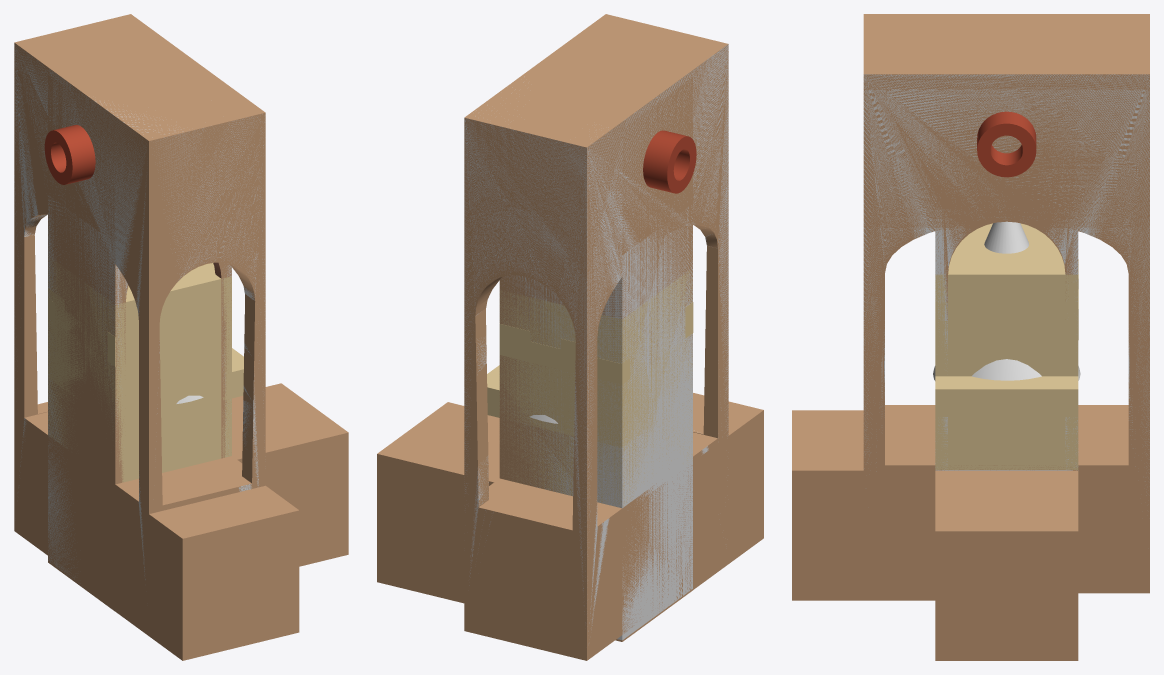
The model's file is rand (hek).fbx.
The picture shows the model from 3 angles, left to right: view 1: azimuth 30°, elevation 25°; view 2: azimuth 150°, elevation 25°; view 3: azimuth 270°, elevation 25°; orthographic projection. The views are drawn at different scales.
Parts seen in each view (by area): view 1: brug_1, Cube_1_2, Cube_5, zij_rand_af, zij_rand, sand, Cube_1, Cube, Cube_2, Cube_1_3, rand; view 2: brug_1, Cube_1_2, Cube_2, Cube_5, zij_rand_af, Cube_1_3, zij_rand, hoek, Cube_1; view 3: brug_1, Cube_1_2, Cube_5, zij_rand, zij_rand_af, Cube_1_3, Cube_2, Cone, Cube, sand.
Part boxes in pixels (x1,y1,x2,y2): brug_1: [14, 14, 265, 629]; Cube_1_2: [44, 74, 348, 660]; Cube_5: [14, 45, 265, 579]; zij_rand_af: [48, 256, 243, 424]; zij_rand: [48, 258, 243, 422]; sand: [48, 269, 231, 420]; Cube_1: [48, 318, 227, 482]; Cube: [116, 338, 231, 456]; Cube_2: [48, 196, 231, 583]; Cube_1_3: [48, 318, 77, 448]; rand: [48, 288, 128, 364]; brug_1: [464, 14, 728, 660]; Cube_1_2: [377, 77, 763, 641]; Cube_2: [502, 205, 692, 640]; Cube_5: [464, 44, 728, 631]; zij_rand_af: [487, 270, 692, 447]; Cube_1_3: [499, 356, 692, 507]; zij_rand: [499, 271, 692, 447]; hoek: [499, 302, 693, 384]; Cube_1: [623, 334, 692, 458]; brug_1: [863, 14, 1149, 593]; Cube_1_2: [792, 81, 1078, 660]; Cube_5: [863, 74, 1149, 495]; zij_rand: [935, 224, 1078, 416]; zij_rand_af: [935, 223, 1078, 416]; Cube_1_3: [935, 417, 1078, 469]; Cube_2: [935, 209, 1078, 470]; Cone: [933, 221, 1080, 380]; Cube: [935, 417, 993, 469]; sand: [935, 275, 1078, 372].
Bounding box in the file's own units: 220 × 406 × 250.
